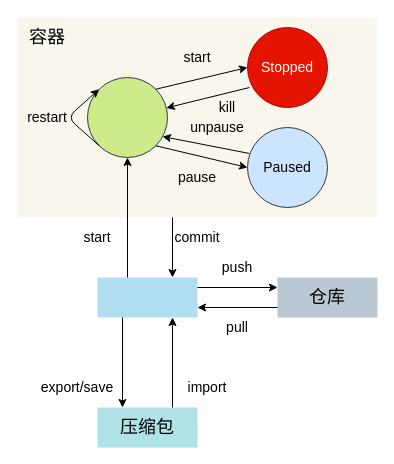
Image size: 394x464. Some labels were removed from this diagram. Each missing label, with the centre of its shape:
Running: [127,117]
镜像: [147,297]
